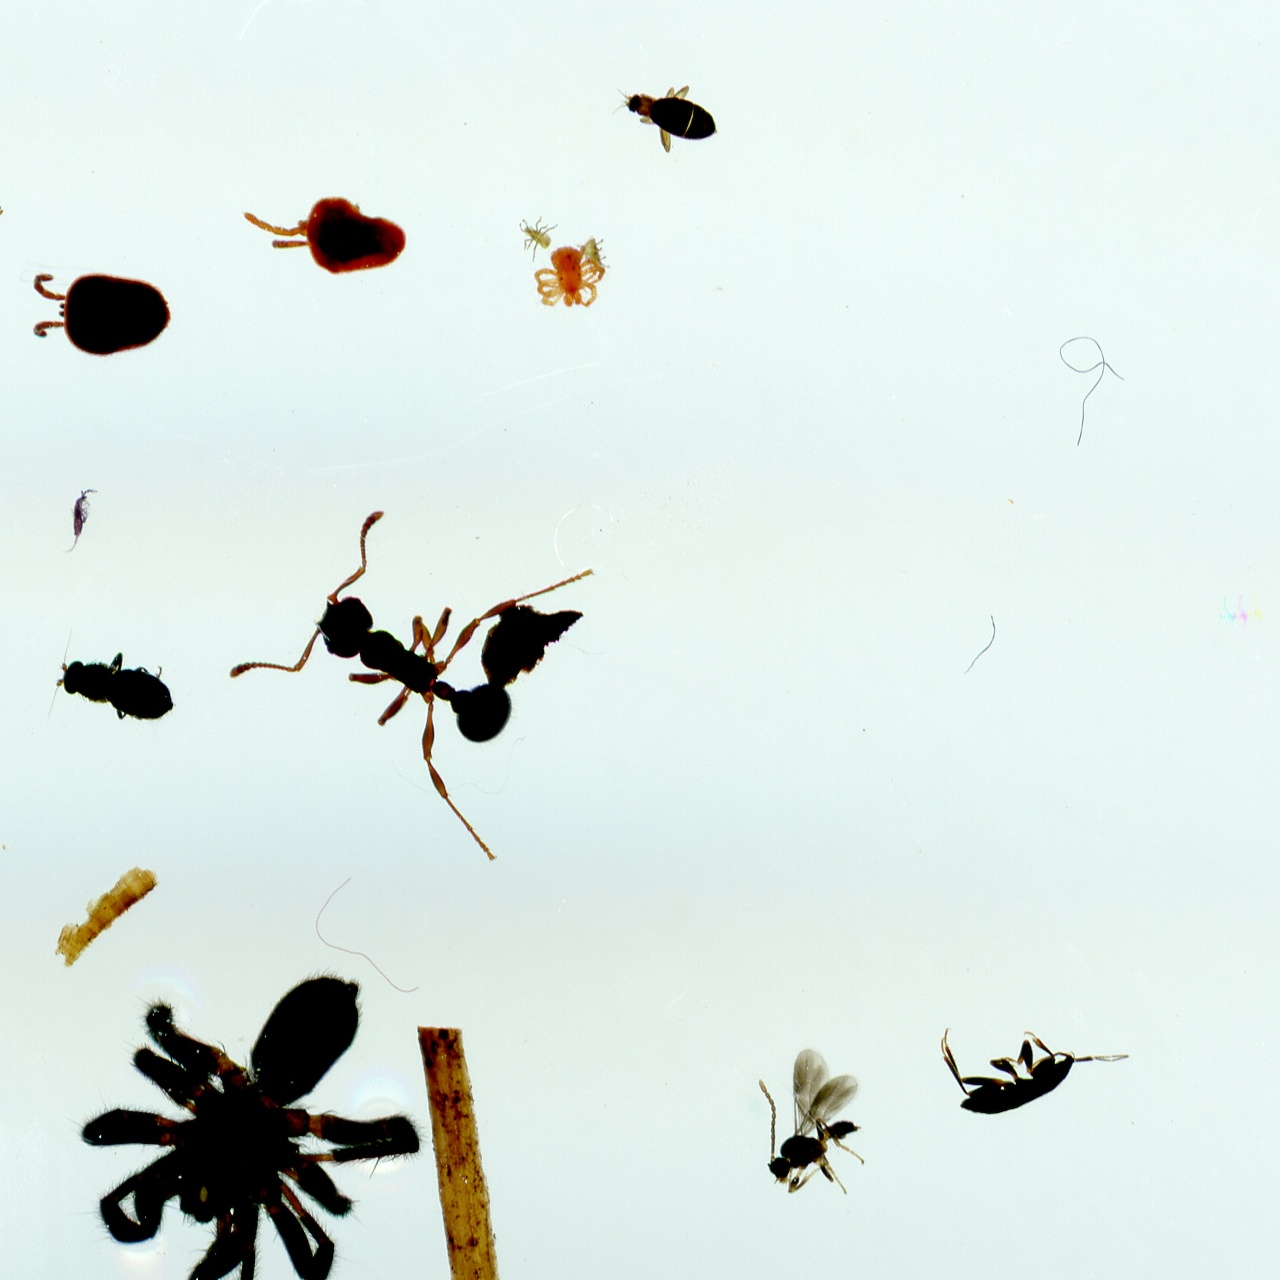arthropod: (183, 455, 607, 883), (59, 955, 439, 1280), (935, 1027, 1136, 1124), (748, 1044, 871, 1198), (236, 185, 414, 284), (39, 626, 184, 735), (26, 264, 176, 360), (604, 77, 727, 156), (531, 246, 607, 311), (55, 476, 106, 562), (503, 204, 565, 267), (575, 234, 610, 275)
